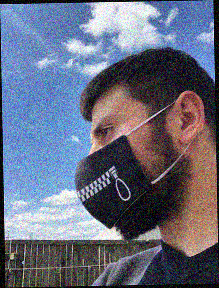with_mask: (74, 108, 165, 234)
